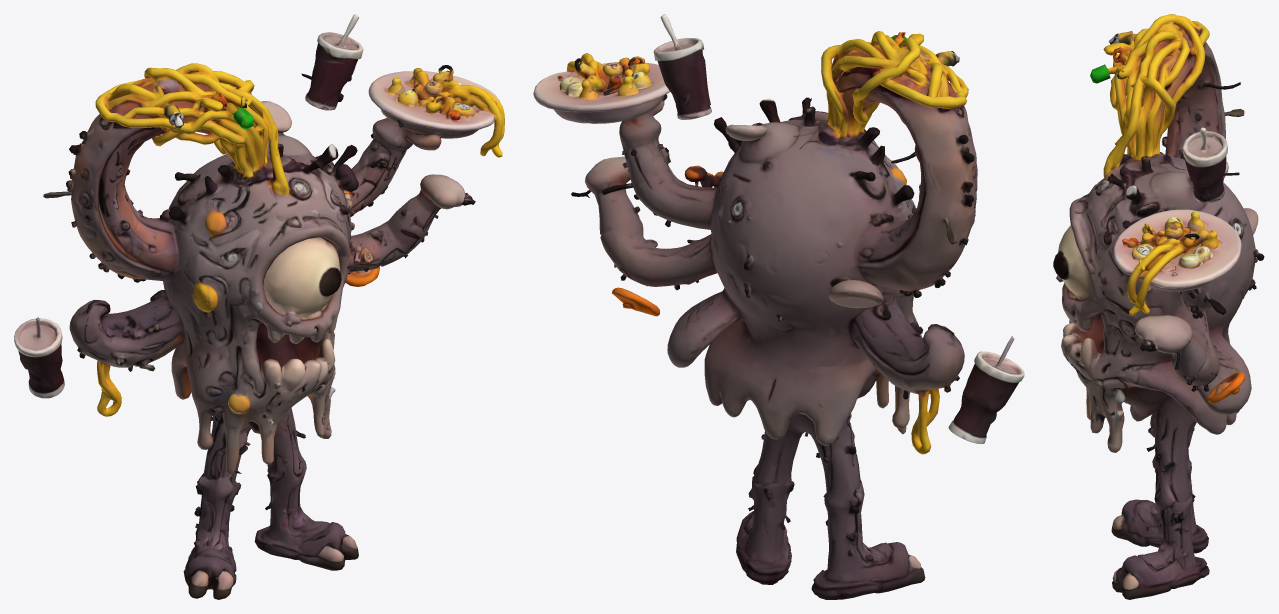
The model's file is the_food_court_kraken.fbx.
The picture shows the model from 3 angles, left to right: view 1: azimuth 30°, elevation 25°; view 2: azimuth 150°, elevation 25°; view 3: azimuth 270°, elevation 25°; orthographic projection. The views are drawn at different scales.
Parts seen in each view (by area): view 1: the_food_court_kraken; view 2: the_food_court_kraken; view 3: the_food_court_kraken.
Boxes of the visible parts, x1,y1,x2,y2 form: the_food_court_kraken: (14, 14, 504, 599); the_food_court_kraken: (533, 14, 1024, 599); the_food_court_kraken: (1053, 14, 1264, 599).
Size of the model in its own units: 4.63 by 5 by 1.89.
1 material, 1 textured.
